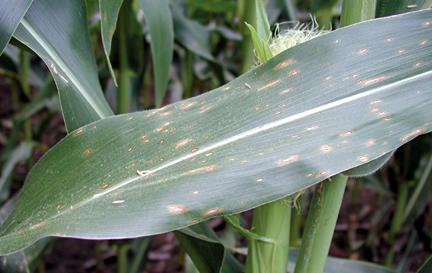Corn Gray leaf spot: (1, 5, 431, 264)
